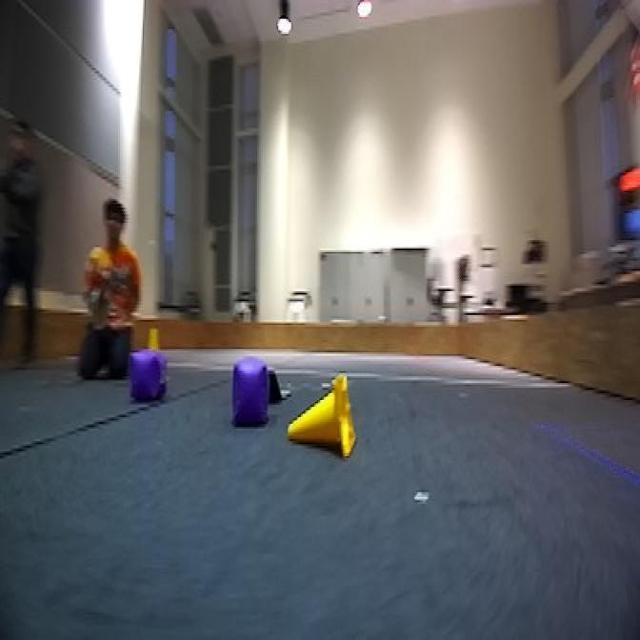frc_cone: (279, 368, 353, 461), (132, 320, 170, 357)
frc_cube: (224, 358, 268, 428), (128, 349, 155, 403)
